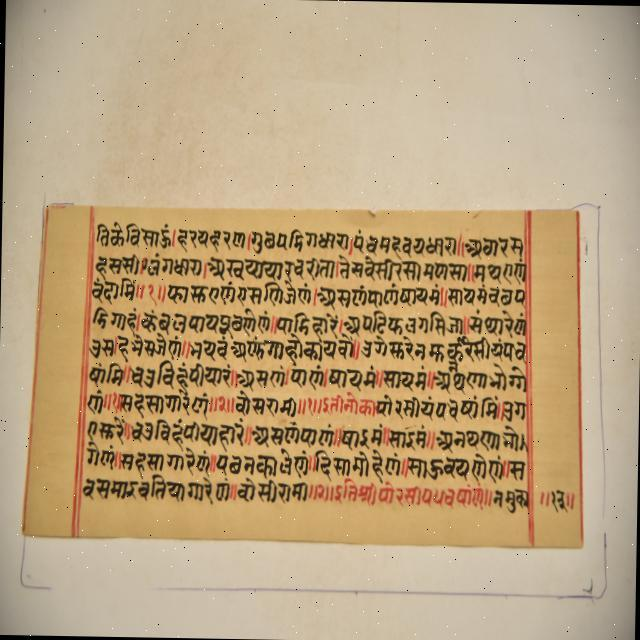text_paragraph: (20, 200, 581, 552)
